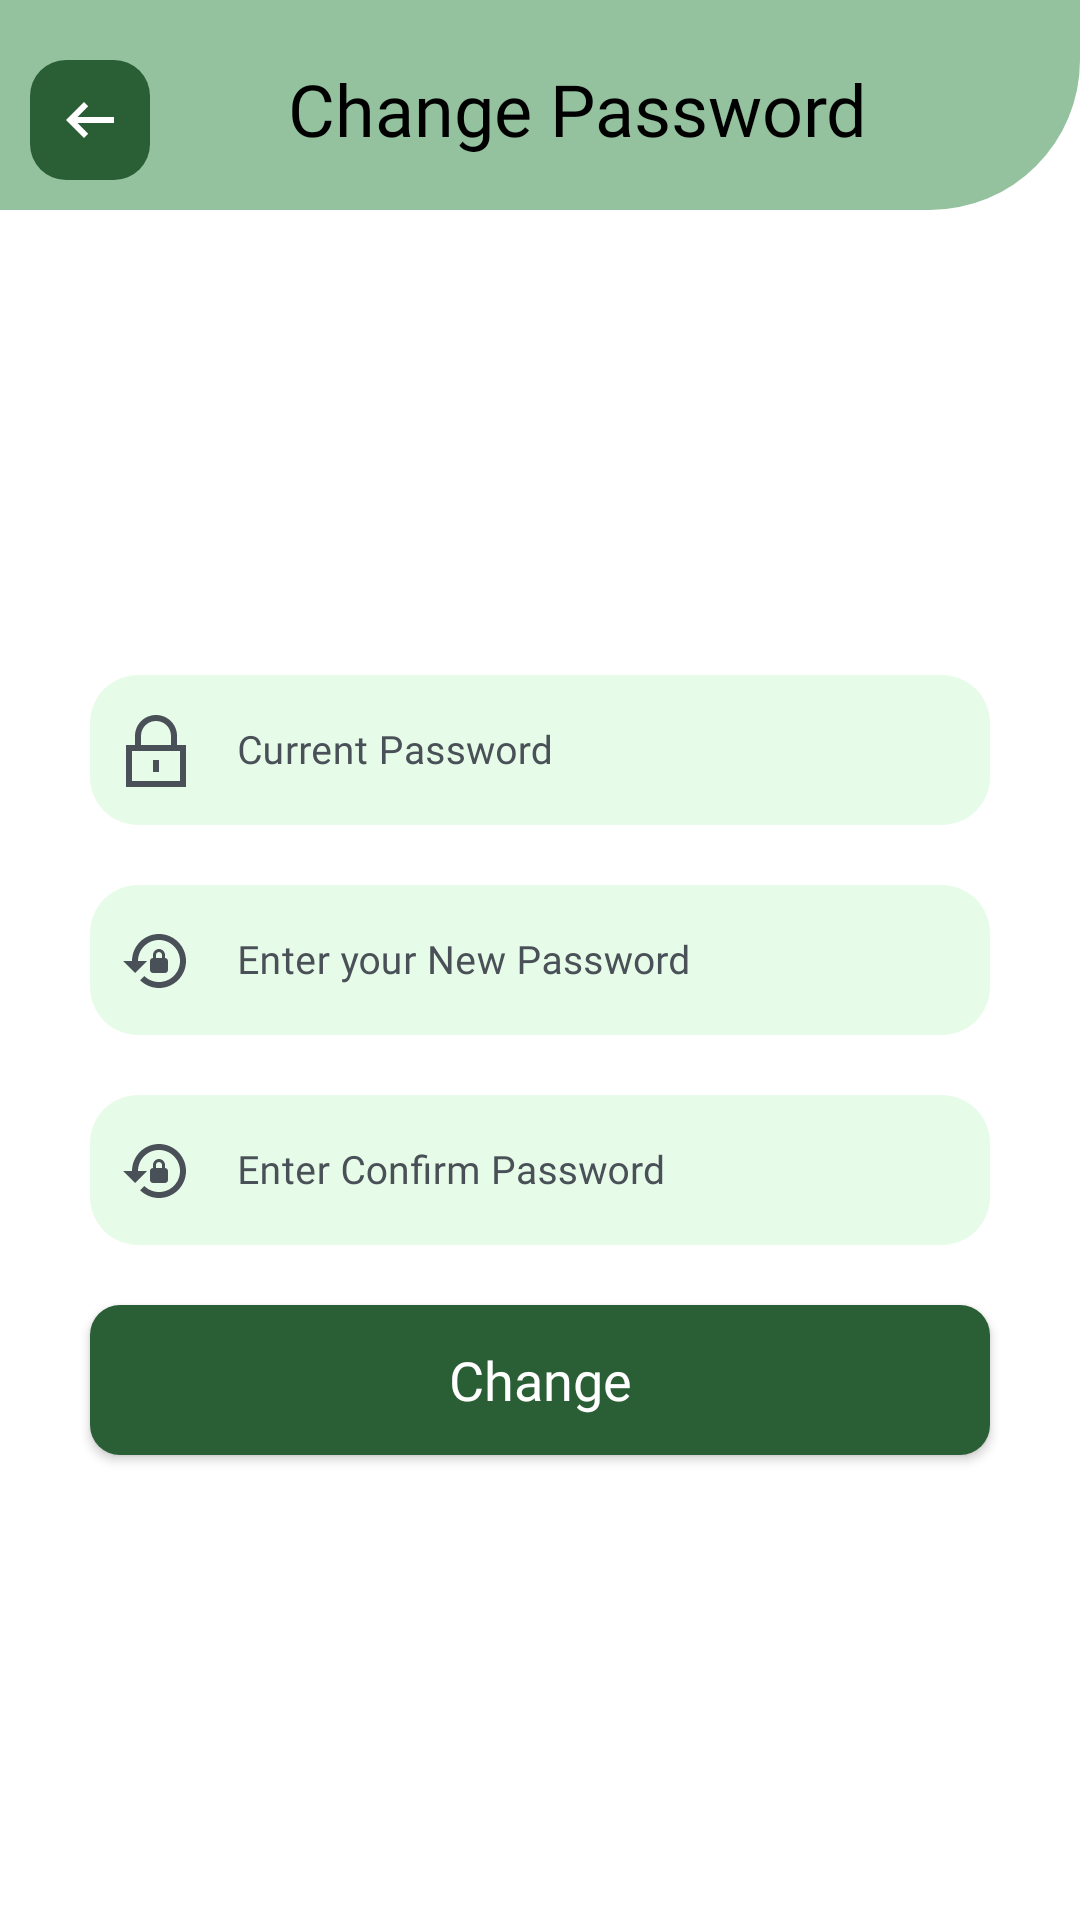

Screen size 1080 x 1920. Icon name, then its box in pixels as rect(x1, y1, x2, y2):
arrow left: rect(30, 60, 150, 180)
